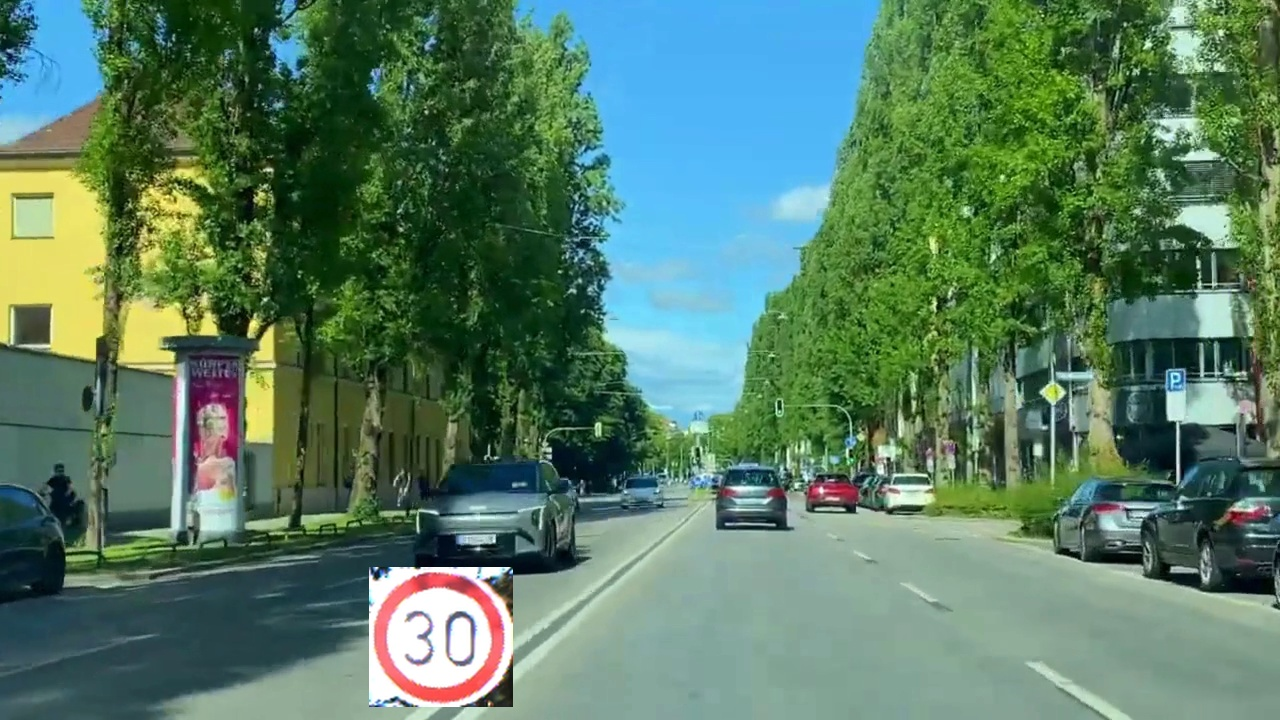Speed 30: (369, 567, 513, 707)
